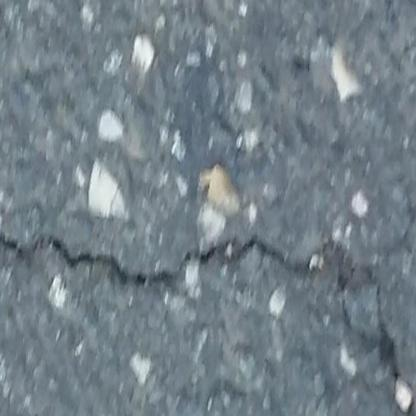Cracks: (0, 185, 416, 416)
